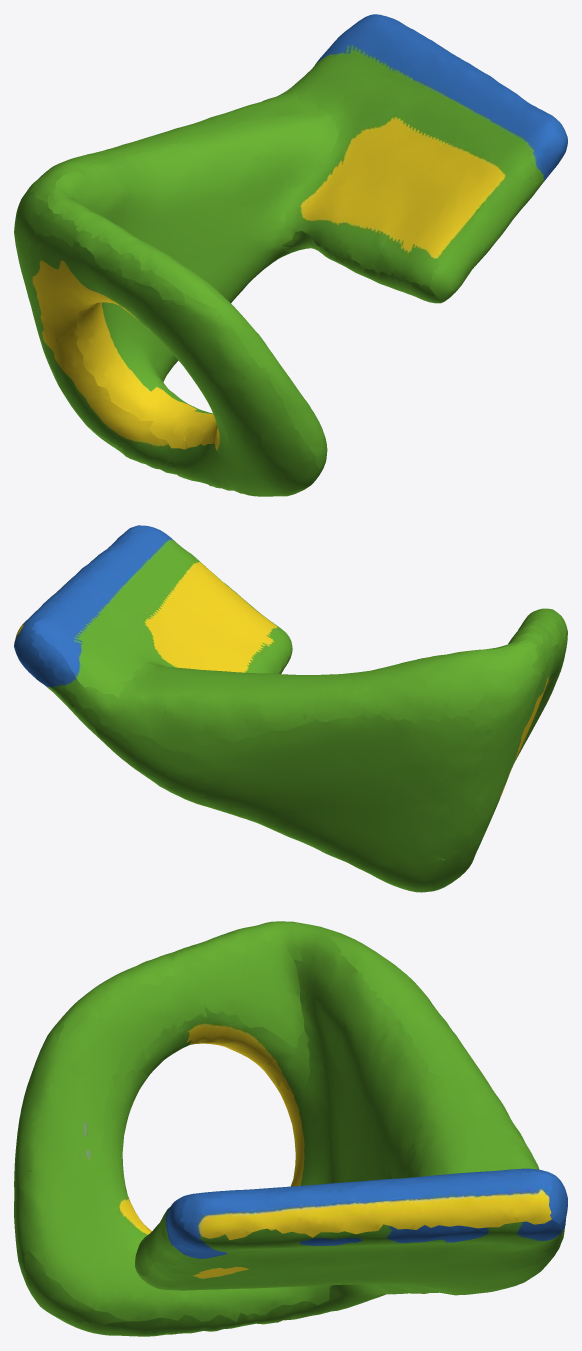
File: targetjump.glb
3 views of the same model, one above another, from view 1: azimuth 30°, elevation 25°; view 2: azimuth 150°, elevation 25°; view 3: azimuth 270°, elevation 25° (orthographic). The views are drawn at different scales.
Parts seen in each view (by area): view 1: geometry_0; view 2: geometry_0; view 3: geometry_0.
Part boxes in pixels (left/top/right/bottom): geometry_0: left=14, top=14, right=567, bottom=496; geometry_0: left=14, top=525, right=567, bottom=892; geometry_0: left=14, top=921, right=567, bottom=1336.
Size of the model in its own units: 1.01 by 0.5442 by 0.8251.
1 material, 1 textured.
